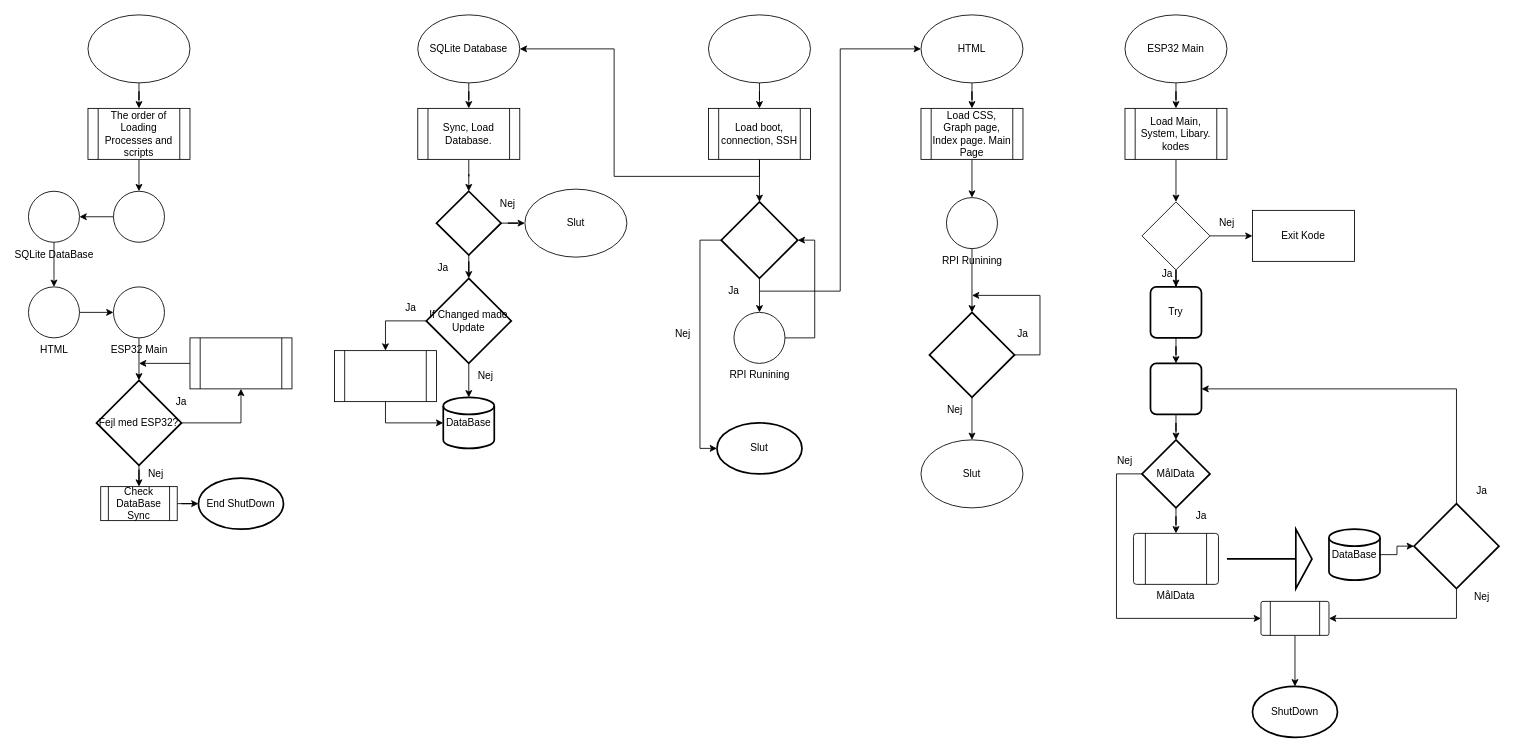
This 1522x753 diagram has some shape labels left out. Here are the shapes that lost their labels. From the top down, the centre of each, then its label:
At pixel 138 48: "Start process".
At pixel 759 48: "RPI RaspBerryPi".
At pixel 138 216: "RPI".
At pixel 468 222: "If Server runing".
At pixel 1175 235: "Loop True".
At pixel 759 240: "Opret forbindelse OR Keep Alive".
At pixel 240 363: "Sleep 0.2 sec + Except".
At pixel 971 354: "Oprethold Hjemmeside?".
At pixel 385 376: "Sync Changed til DataBase".
At pixel 1175 388: "Kode".
At pixel 1269 558: "Transfer".
At pixel 1456 545: "If measure again".
At pixel 1294 618: "End Script".
